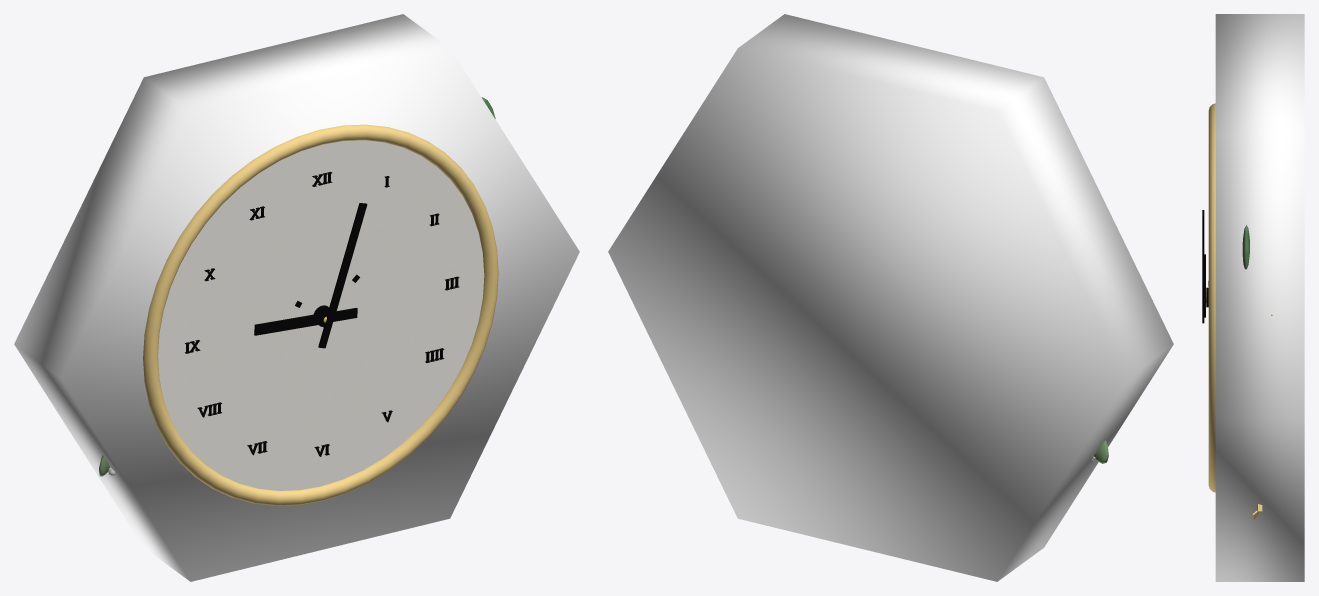
File: clock-resin.glb
The picture shows the model from 3 angles, left to right: view 1: azimuth 30°, elevation 25°; view 2: azimuth 150°, elevation 25°; view 3: azimuth 270°, elevation 25°; orthographic projection. The views are drawn at different scales.
Visible parts, largest first — view 1: ResinClock; view 2: ResinClock; view 3: ResinClock.
Boxes of the visible parts, bbox=[...] form: ResinClock: bbox=[14, 14, 579, 581]; ResinClock: bbox=[608, 14, 1173, 581]; ResinClock: bbox=[1202, 14, 1304, 581].
Size of the model in its own units: 0.32 by 0.2778 by 0.0576.
11 materials, 8 textured.
